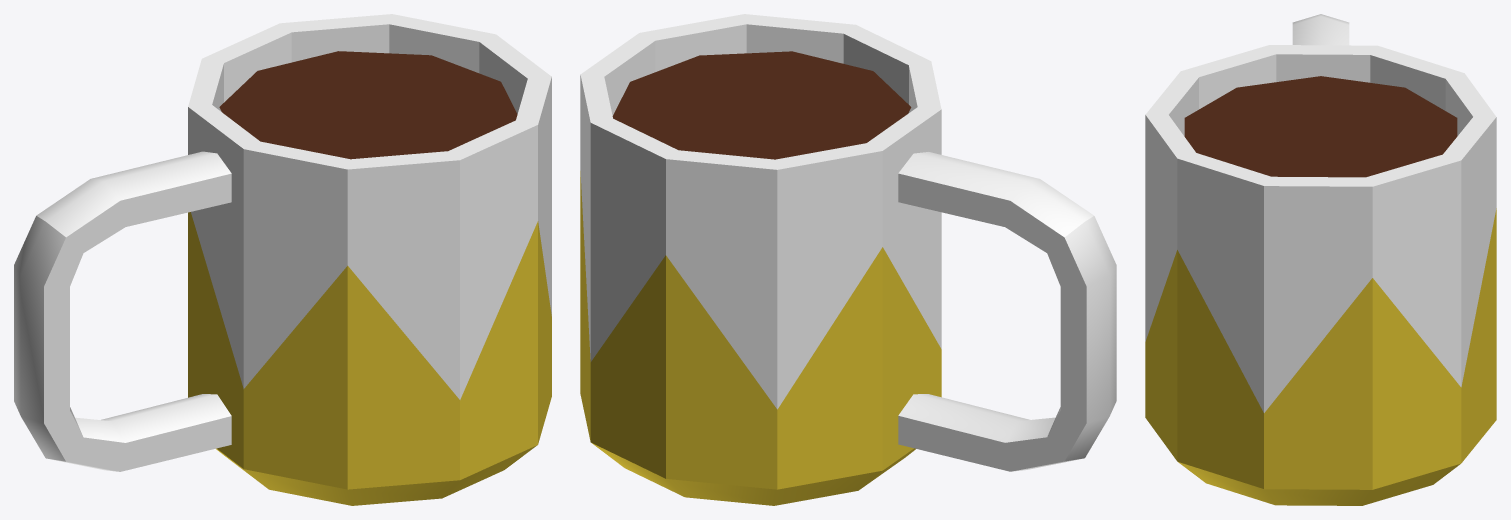
Rendered from PW_cup03.fbx.
3 renders of one model, left to right at view 1: azimuth 30°, elevation 25°; view 2: azimuth 150°, elevation 25°; view 3: azimuth 270°, elevation 25°, orthographic. The views are drawn at different scales.
Parts seen in each view (by area): view 1: cup, coffee; view 2: cup, coffee; view 3: cup, coffee.
Part boxes in pixels (x1,y1,x2,y2): cup: [14, 14, 551, 505]; coffee: [219, 51, 517, 159]; cup: [580, 14, 1116, 505]; coffee: [612, 51, 911, 159]; cup: [1145, 14, 1496, 505]; coffee: [1184, 76, 1457, 177].
Size of the model in its own units: 38.32 by 25.65 by 24.48.
Materials: 1 (1 with a texture image).
